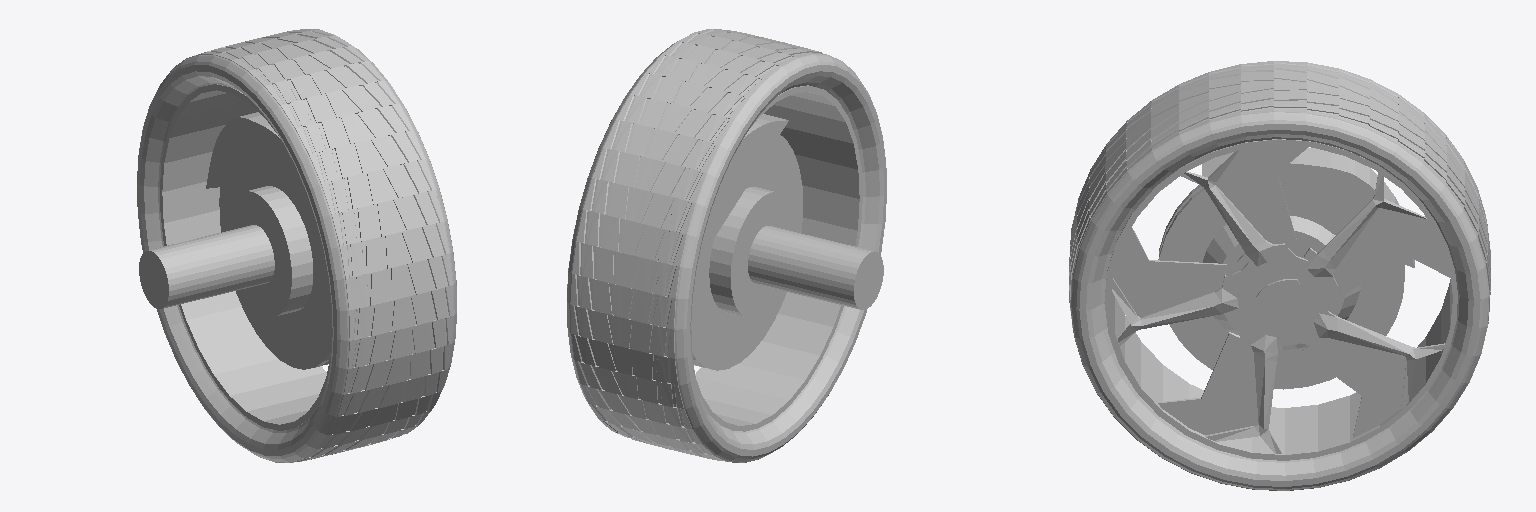
Rendered from lambo_altvr-tire_front_left.obj.
3 views of the same model, side by side, from view 1: azimuth 30°, elevation 25°; view 2: azimuth 150°, elevation 25°; view 3: azimuth 270°, elevation 25° (orthographic).
Parts seen in each view (by area): view 1: lambo_altvr-tire_front_left.obj; view 2: lambo_altvr-tire_front_left.obj; view 3: lambo_altvr-tire_front_left.obj.
Boxes of the visible parts, <box> form: lambo_altvr-tire_front_left.obj: <box>137,29,456,462</box>; lambo_altvr-tire_front_left.obj: <box>567,29,886,462</box>; lambo_altvr-tire_front_left.obj: <box>1069,61,1490,490</box>.
Bounding box in the file's own units: 0.5124 × 0.9245 × 0.9245.